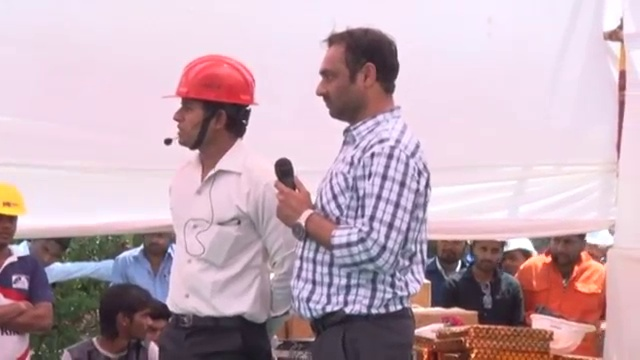helmet: (155, 60, 259, 109), (529, 312, 596, 354), (0, 181, 30, 220), (501, 235, 538, 258)
helmet_off: (313, 27, 404, 126), (97, 283, 153, 344), (25, 234, 72, 274), (544, 230, 591, 269), (142, 302, 174, 342), (471, 240, 507, 275), (140, 228, 175, 264), (435, 238, 466, 270)
helmet_on: (156, 58, 259, 154), (0, 181, 29, 256), (502, 235, 538, 276)
person: (271, 27, 427, 360), (155, 53, 296, 358), (526, 229, 608, 354), (0, 181, 55, 358), (58, 284, 159, 358), (442, 240, 524, 323), (117, 227, 182, 300), (423, 238, 474, 307)
